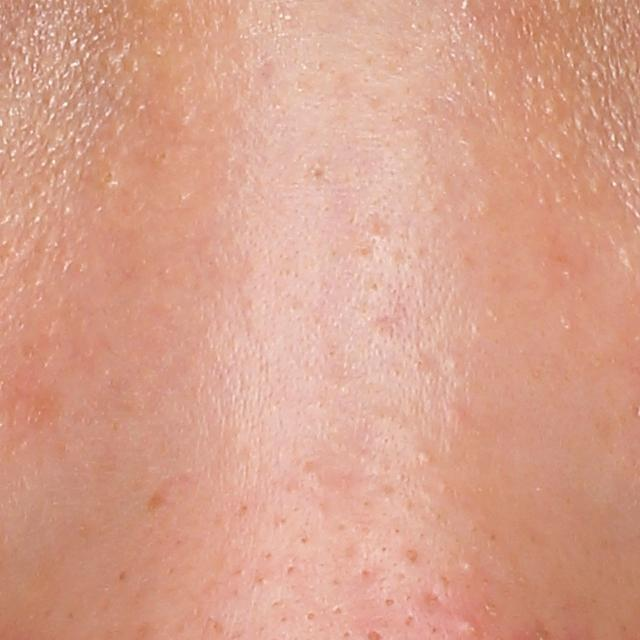comedo: (98, 167, 119, 187), (415, 447, 434, 468), (153, 148, 172, 165)
melasma: (144, 484, 173, 517)
